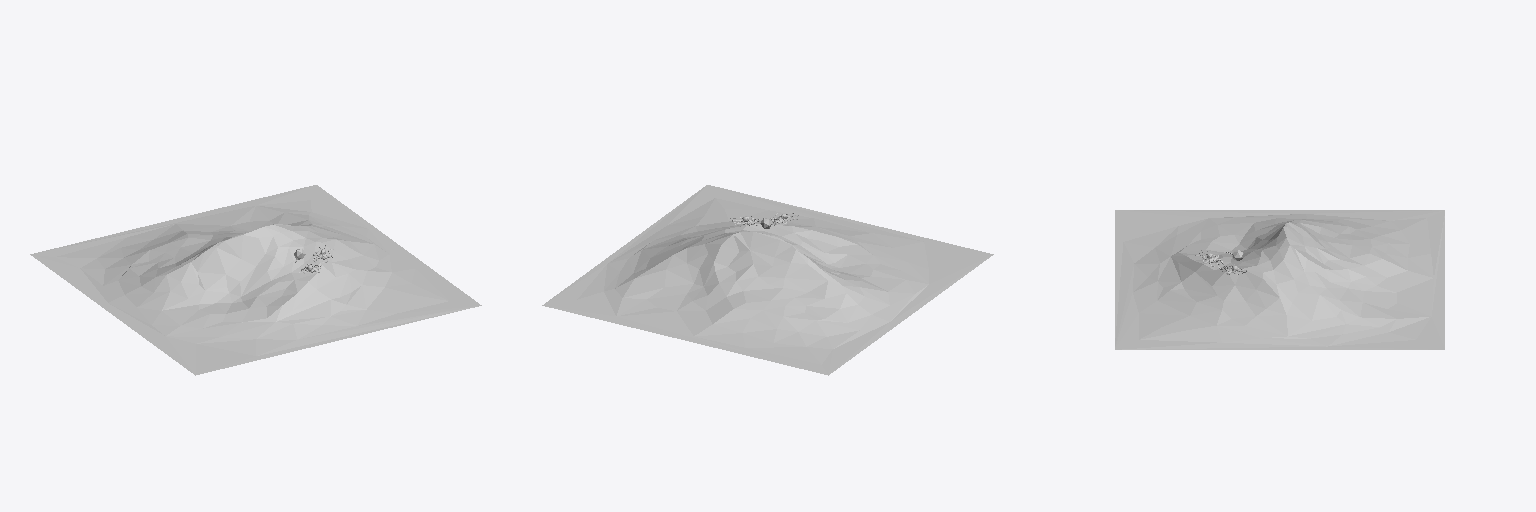
The model's file is plat_01.obj.
3 renders of one model, left to right at view 1: azimuth 30°, elevation 25°; view 2: azimuth 150°, elevation 25°; view 3: azimuth 270°, elevation 25°, orthographic.
Visible parts, largest first — view 1: Default_1.1; view 2: Default_1.1; view 3: Default_1.1.
Part boxes in pixels (left/top/right/bottom): Default_1.1: left=30, top=185, right=481, bottom=375; Default_1.1: left=542, top=185, right=993, bottom=375; Default_1.1: left=1115, top=210, right=1444, bottom=349.
Size of the model in its own units: 600 by 96.29 by 600.